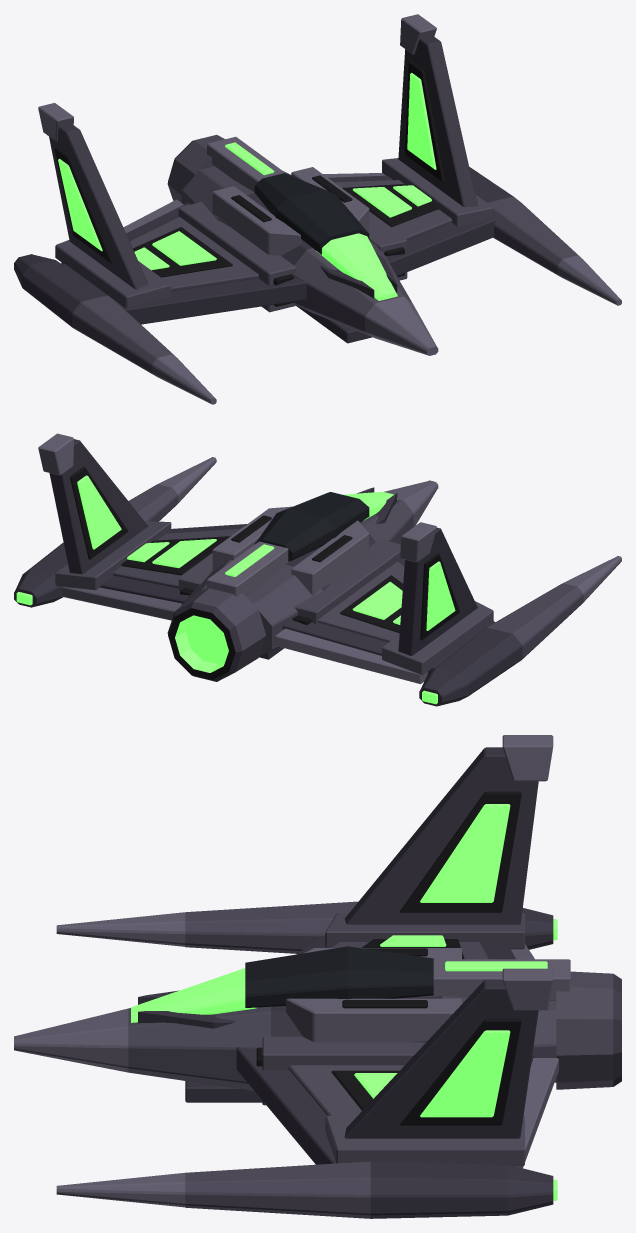
File: alien-fighter.glb
The picture shows the model from 3 angles, top to bottom: view 1: azimuth 30°, elevation 25°; view 2: azimuth 150°, elevation 25°; view 3: azimuth 270°, elevation 25°; orthographic projection. The views are drawn at different scales.
Visible parts, largest first — view 1: Alien3; view 2: Alien3; view 3: Alien3.
Part boxes in pixels (bbox=[...]): Alien3: bbox=[14, 14, 621, 404]; Alien3: bbox=[14, 433, 621, 706]; Alien3: bbox=[14, 735, 621, 1218].
Size of the model in its own units: 2.4 by 0.915 by 2.13.
